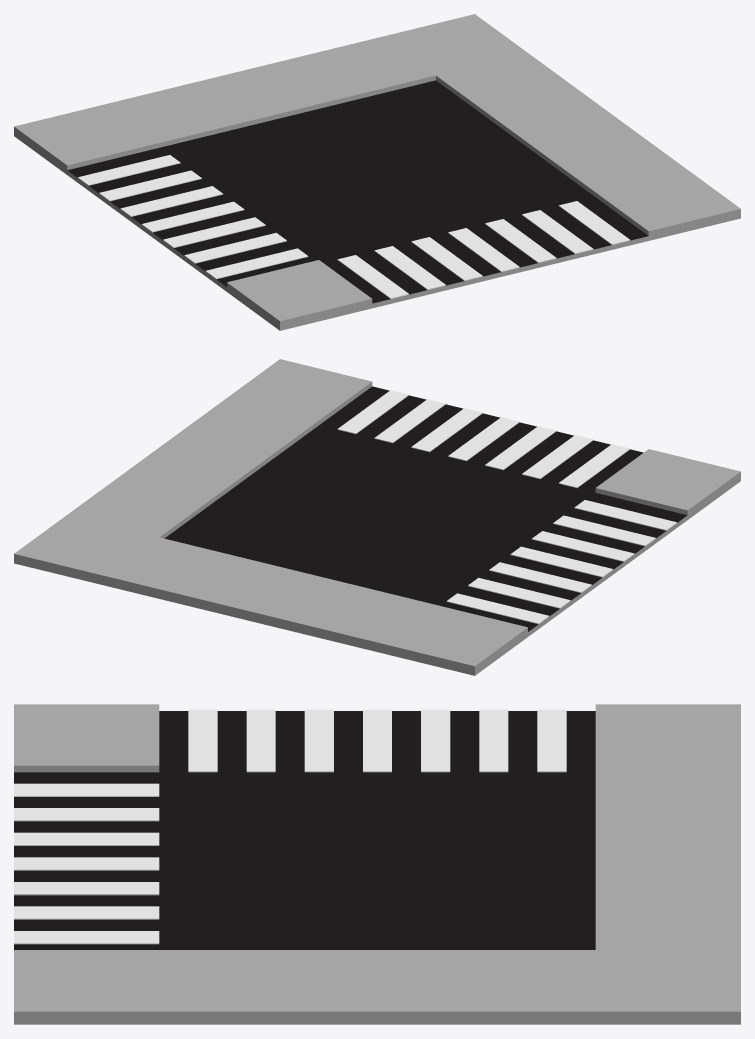
The model's file is Env_Road_Cornor_03.fbx.
The picture shows the model from 3 angles, top to bottom: view 1: azimuth 30°, elevation 25°; view 2: azimuth 150°, elevation 25°; view 3: azimuth 270°, elevation 25°; orthographic projection. The views are drawn at different scales.
Visible parts, largest first — view 1: Env_Road_Cornor_03; view 2: Env_Road_Cornor_03; view 3: Env_Road_Cornor_03.
Boxes of the visible parts, x1,y1,x2,y2 form: Env_Road_Cornor_03: (14, 14, 740, 330); Env_Road_Cornor_03: (14, 359, 740, 675); Env_Road_Cornor_03: (14, 704, 740, 1024).
Size of the model in its own units: 1000 by 20 by 1000.
